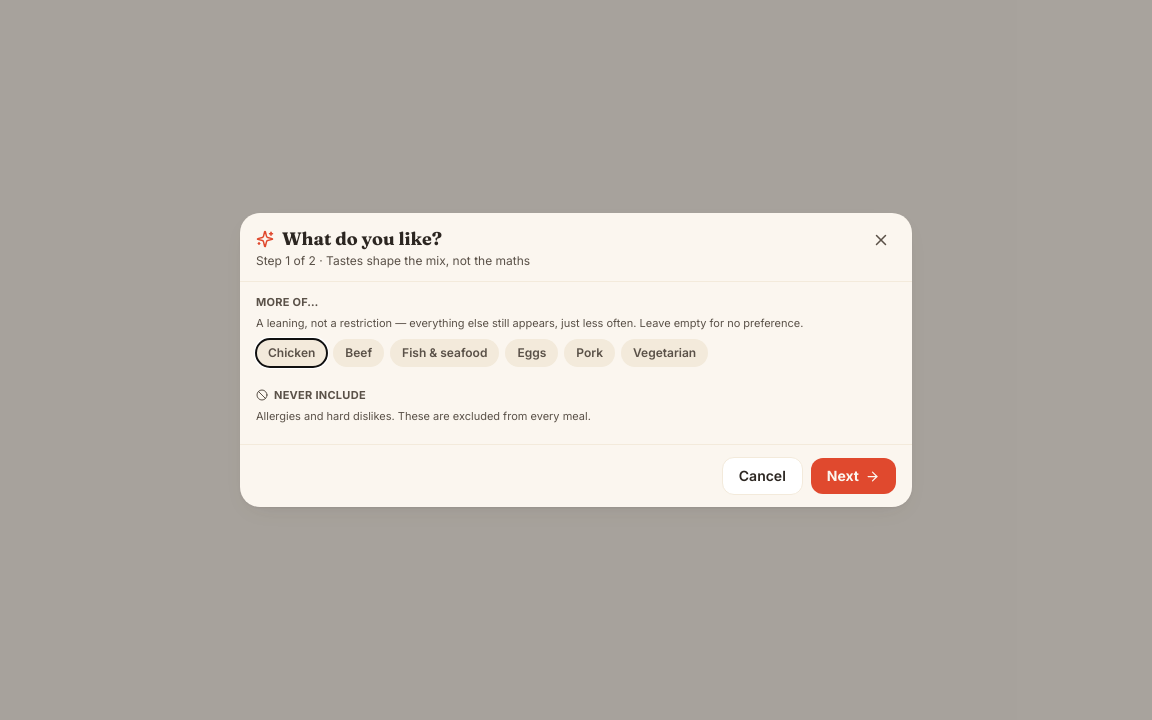
Test case: the generator preview › says the day went without a snack, rather than that a slot failed
Click the button "Next": (853,476) [811, 458, 896, 494]
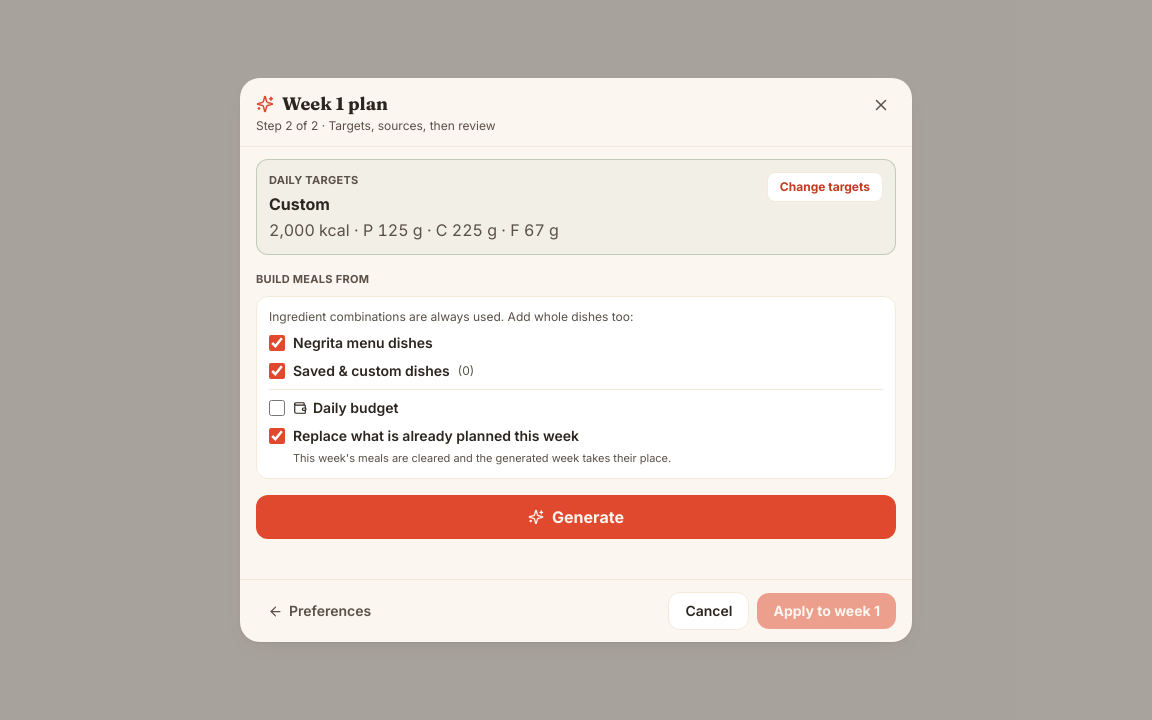
Click the button "Generate": (576,517) [256, 495, 896, 539]
(page scrolled)
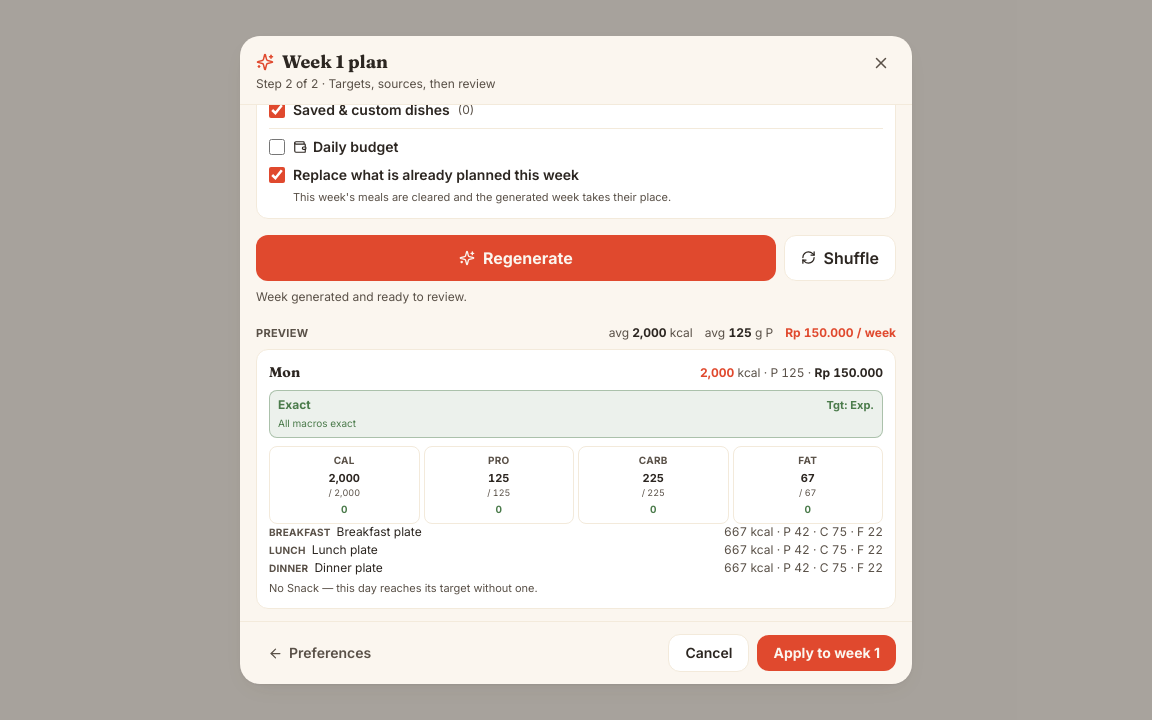
Check: the list item "No Snack — this day reaches its target without one." is shown, box [269, 580, 538, 594]
